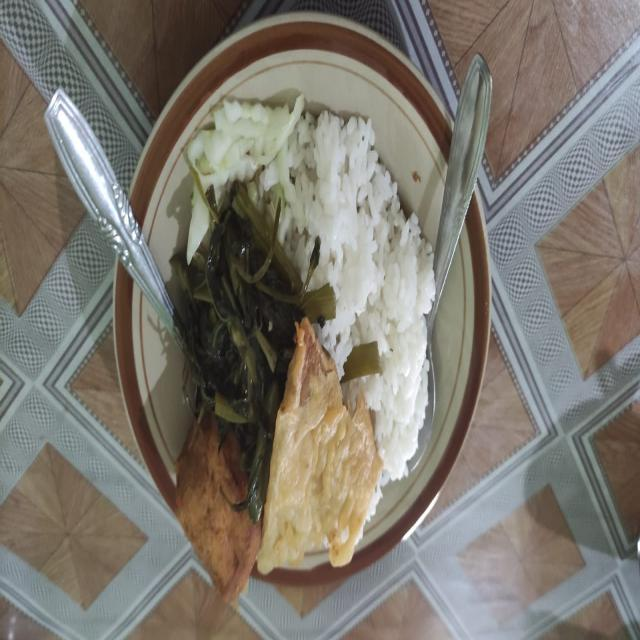telur_ayam_dadar: (260, 330, 380, 582)
